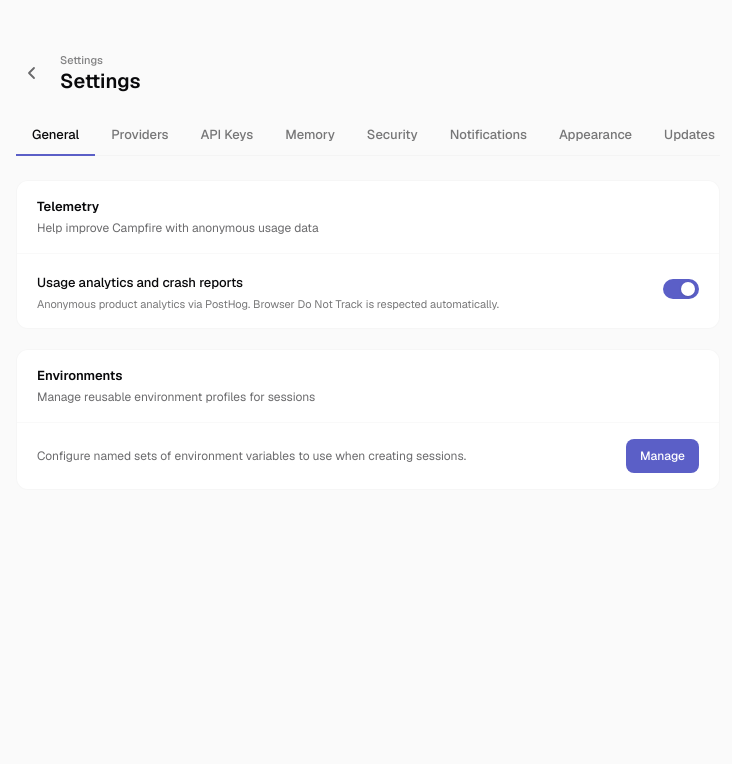
Test case: SettingsPage - Memory tab › saves memory settings converting days to hours and empty half-life to null
Step 1. Click the tab "Memory" → (310,135), box x1=269 y1=114 x2=351 y2=156
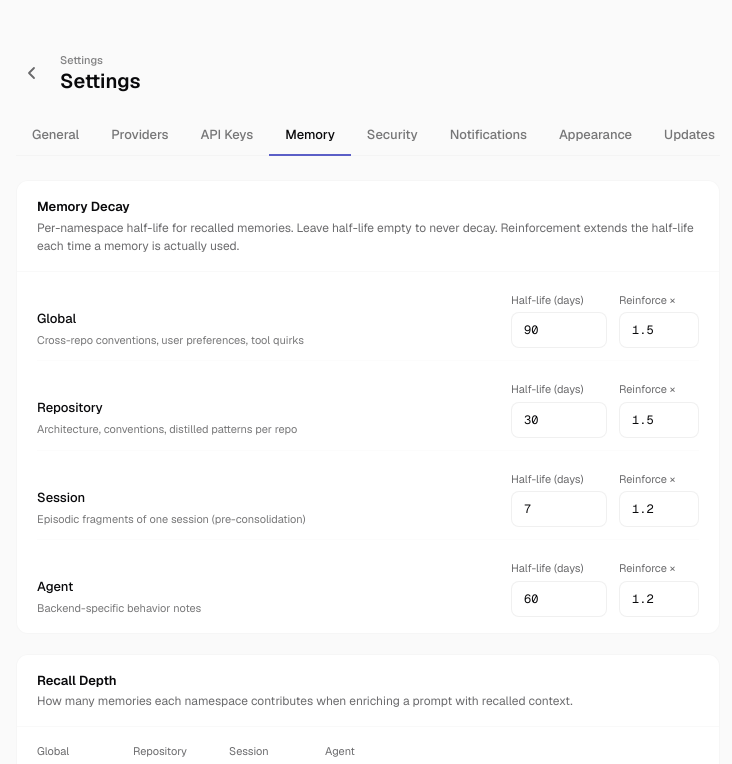
Step 2. Replace the text in the number field with id "memory-halflife-repo" with "14" → (559,420), box x1=511 y1=402 x2=607 y2=438
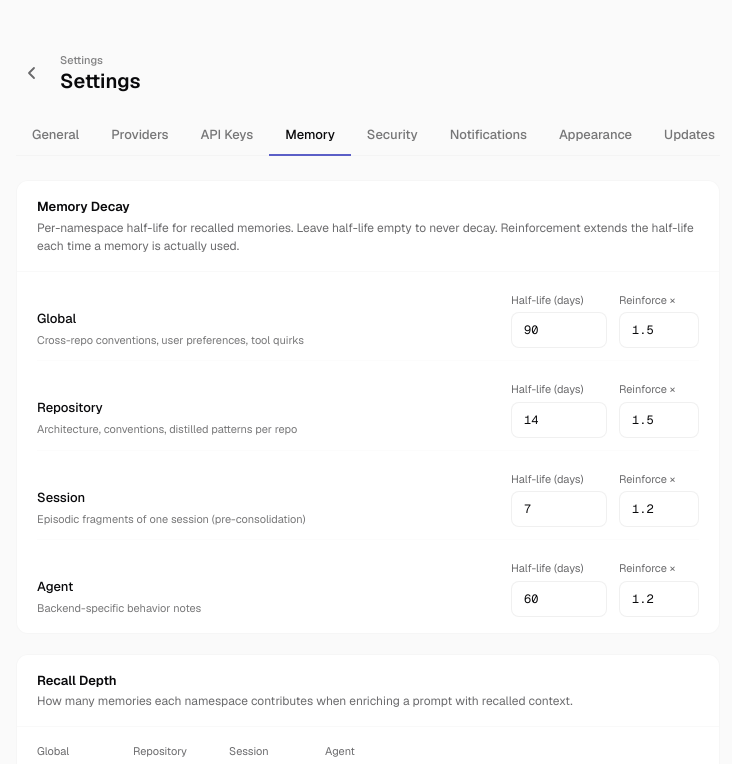
Step 3. Clear the number field with id "memory-halflife-global" → (559,330), box x1=511 y1=312 x2=607 y2=348
(page scrolled)
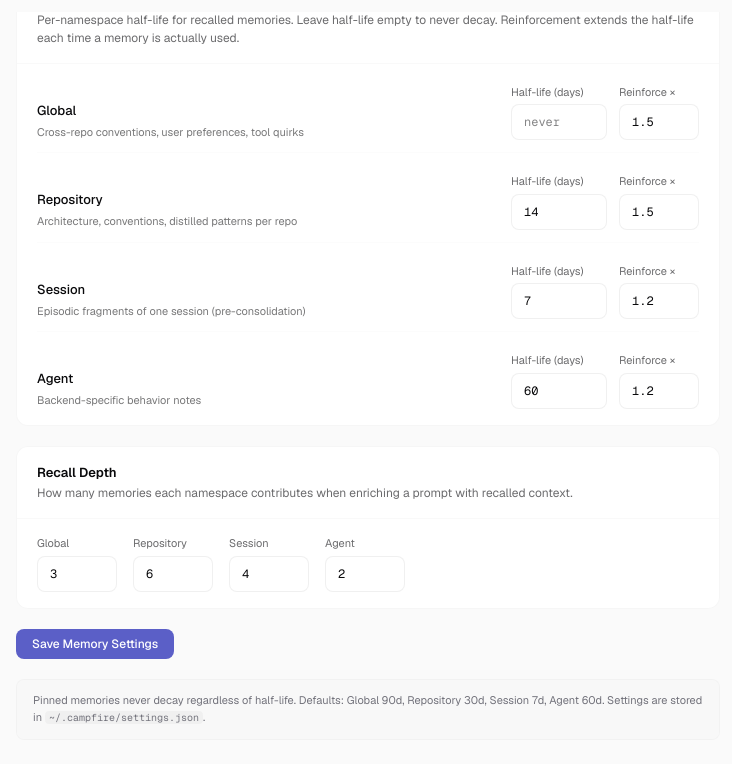
Step 4. Replace the text in the number field with id "memory-depth-agent" with "5" → (365,574), box x1=325 y1=556 x2=405 y2=592
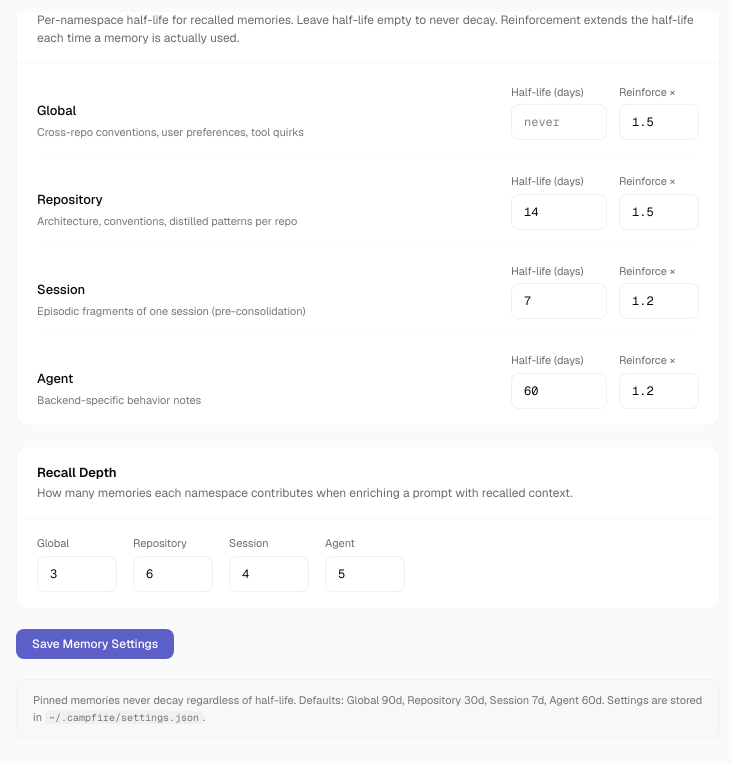
Step 5. Click the button "Save Memory Settings" → (95,644), box x1=16 y1=628 x2=174 y2=658
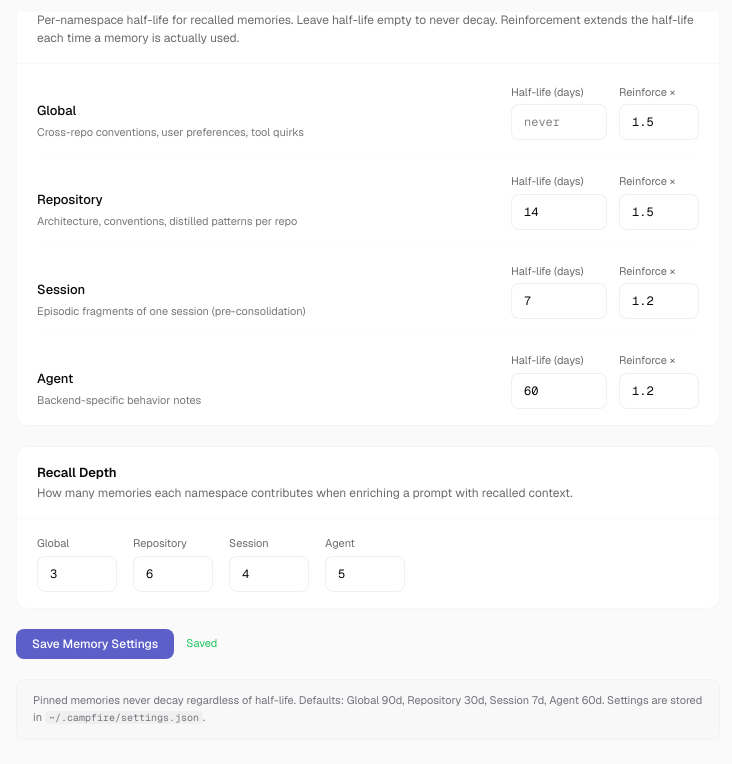
Result: the text "Saved" is shown at x1=186 y1=635 x2=217 y2=652
